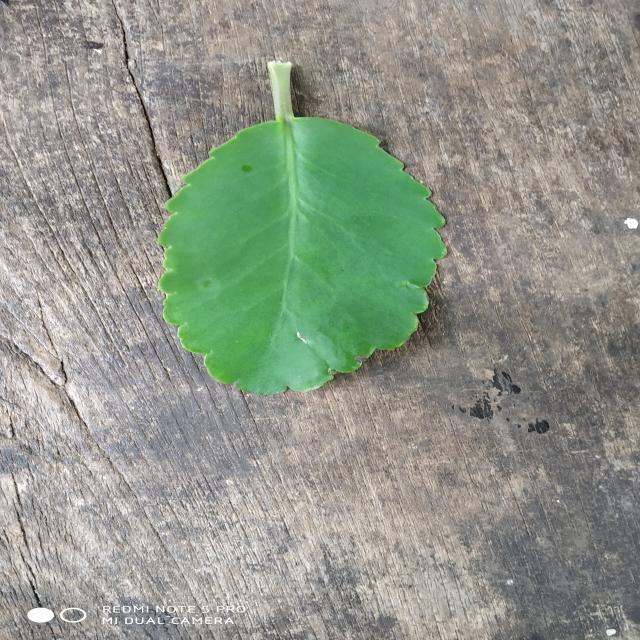spinach: (160, 115, 444, 395)
